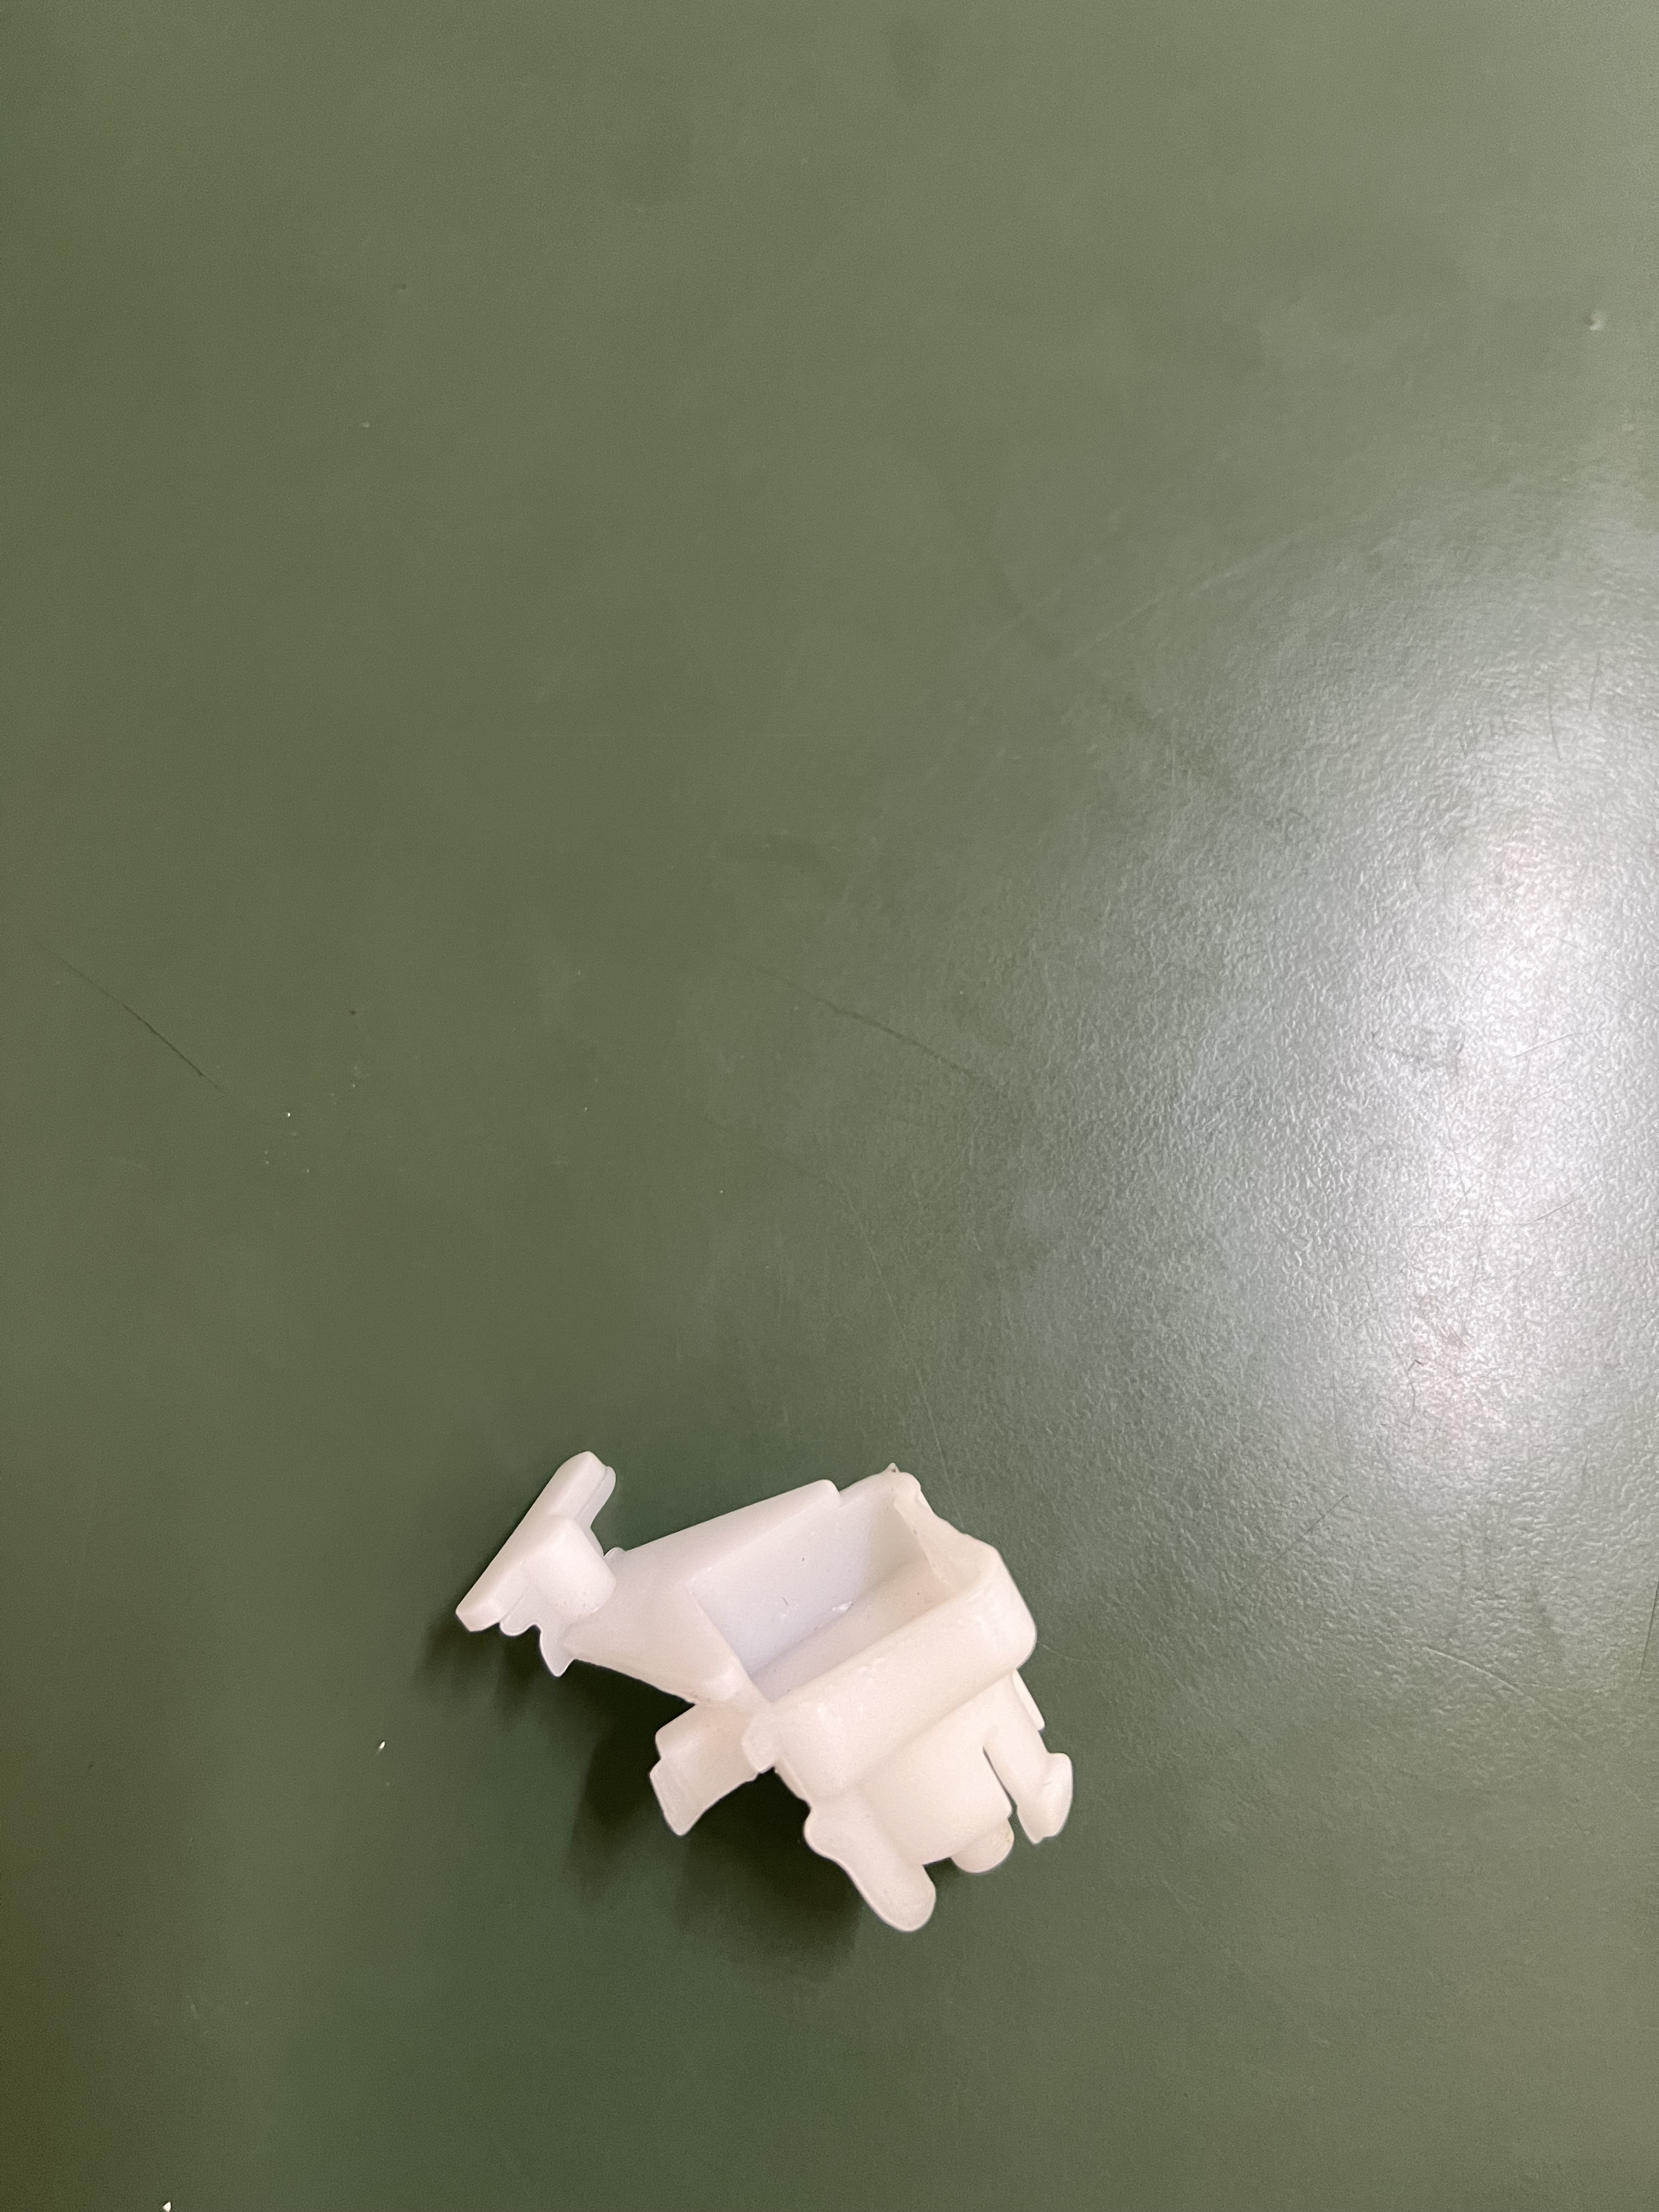drain_lever: (430, 1411, 1103, 1940)
